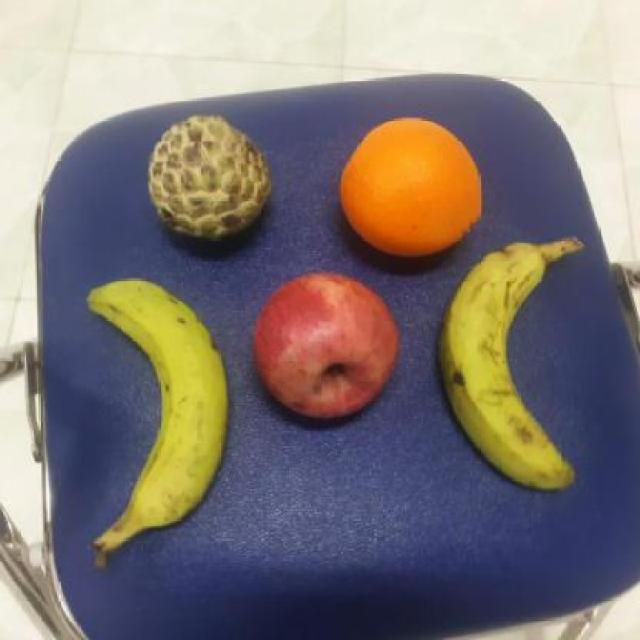apple: (250, 270, 399, 419)
banana: (79, 275, 230, 533), (435, 238, 583, 494)
oren: (335, 114, 483, 258)
sugar apple: (144, 112, 274, 243)
